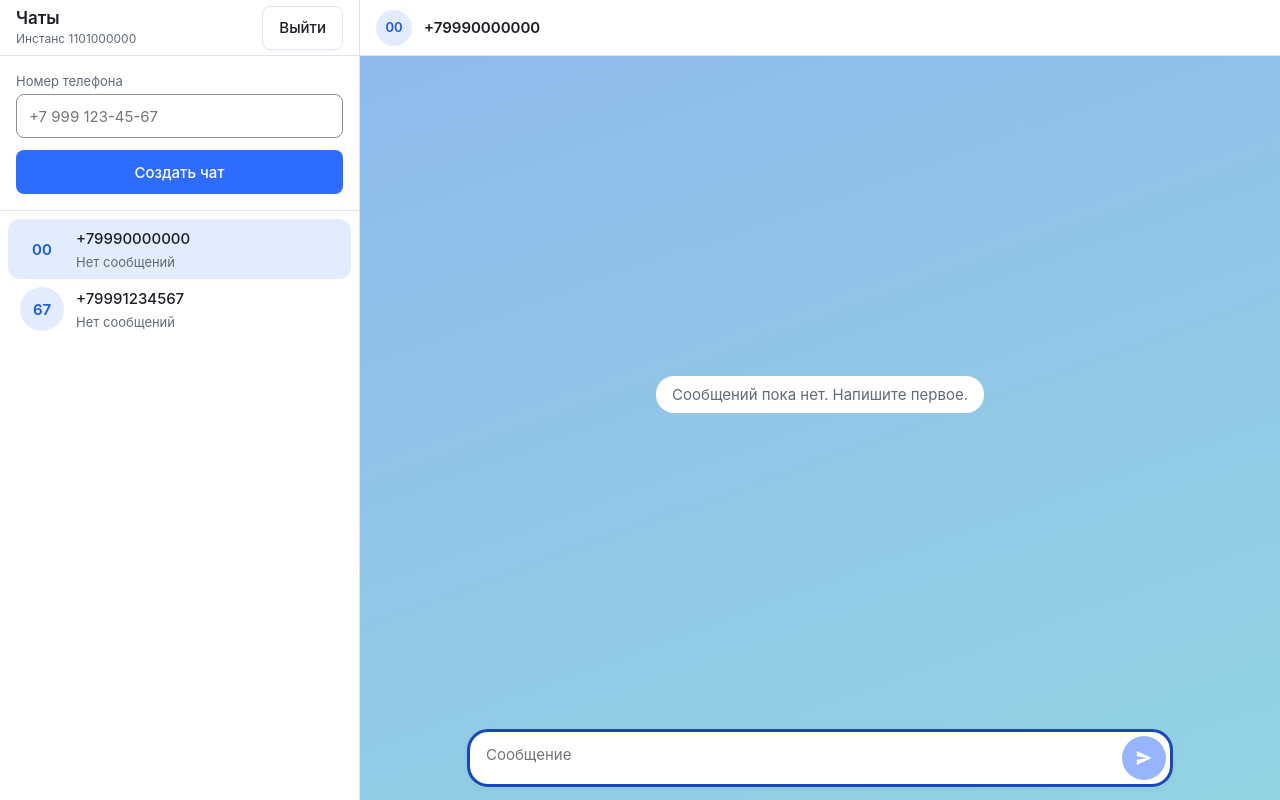
Scenario: ChatPage: новый чат › номер из списка → кнопка «Перейти в чат», чат открывается без CheckAccount
Type "8 (999) 123-45-6" into the field labelled "Номер телефона". click: coordinates (180, 116)
box: [16, 94, 343, 138]
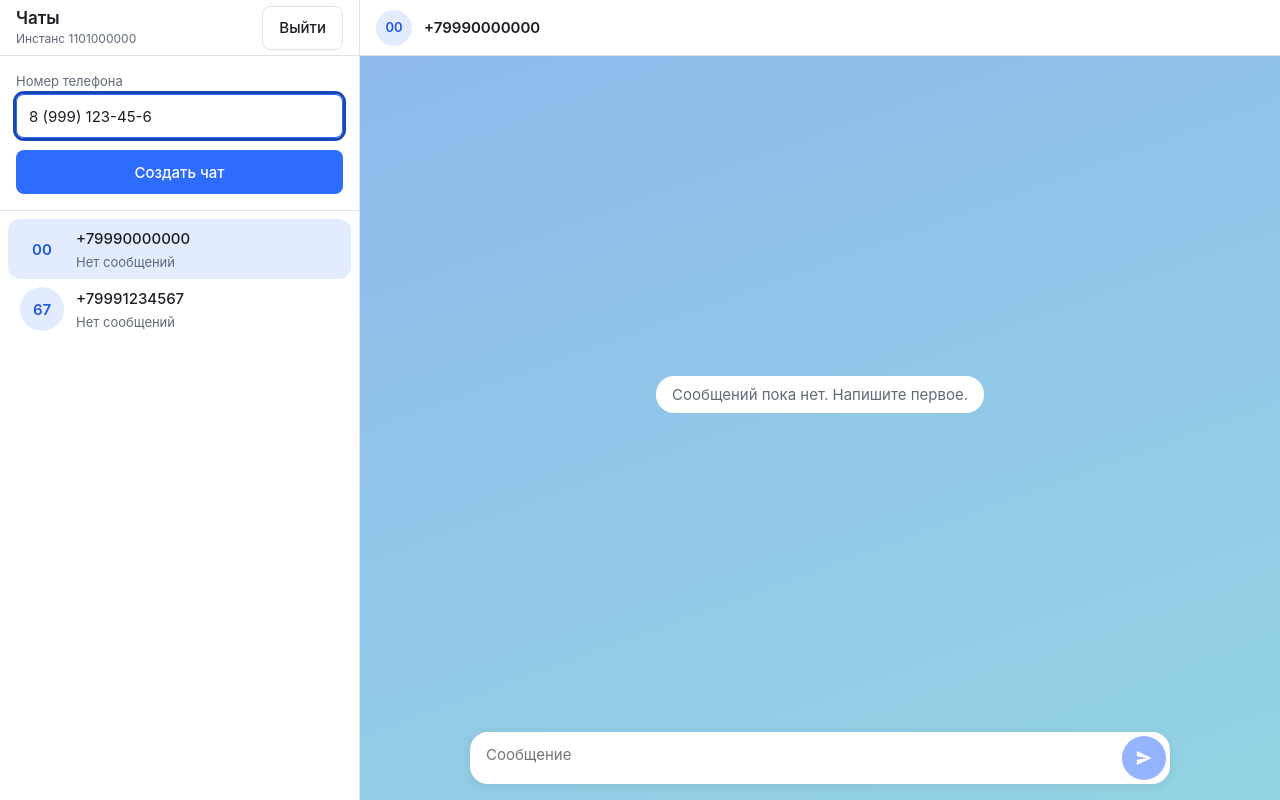
Expected: the button "Создать чат" is shown, [16, 150, 343, 194]
Type "7" into the field labelled "Номер телефона". click: coordinates (180, 116)
box: [16, 94, 343, 138]
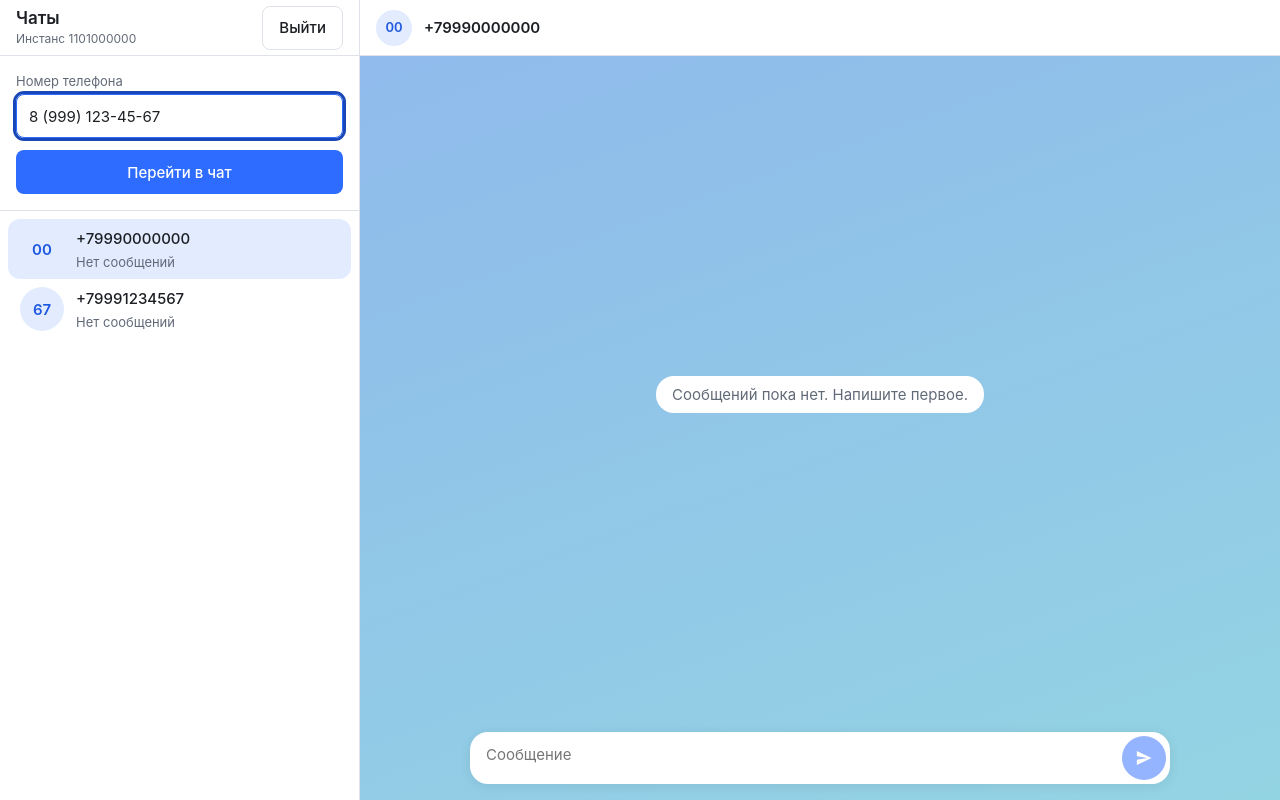
Click the button "Перейти в чат". click: coordinates (180, 172)
box: [16, 150, 343, 194]
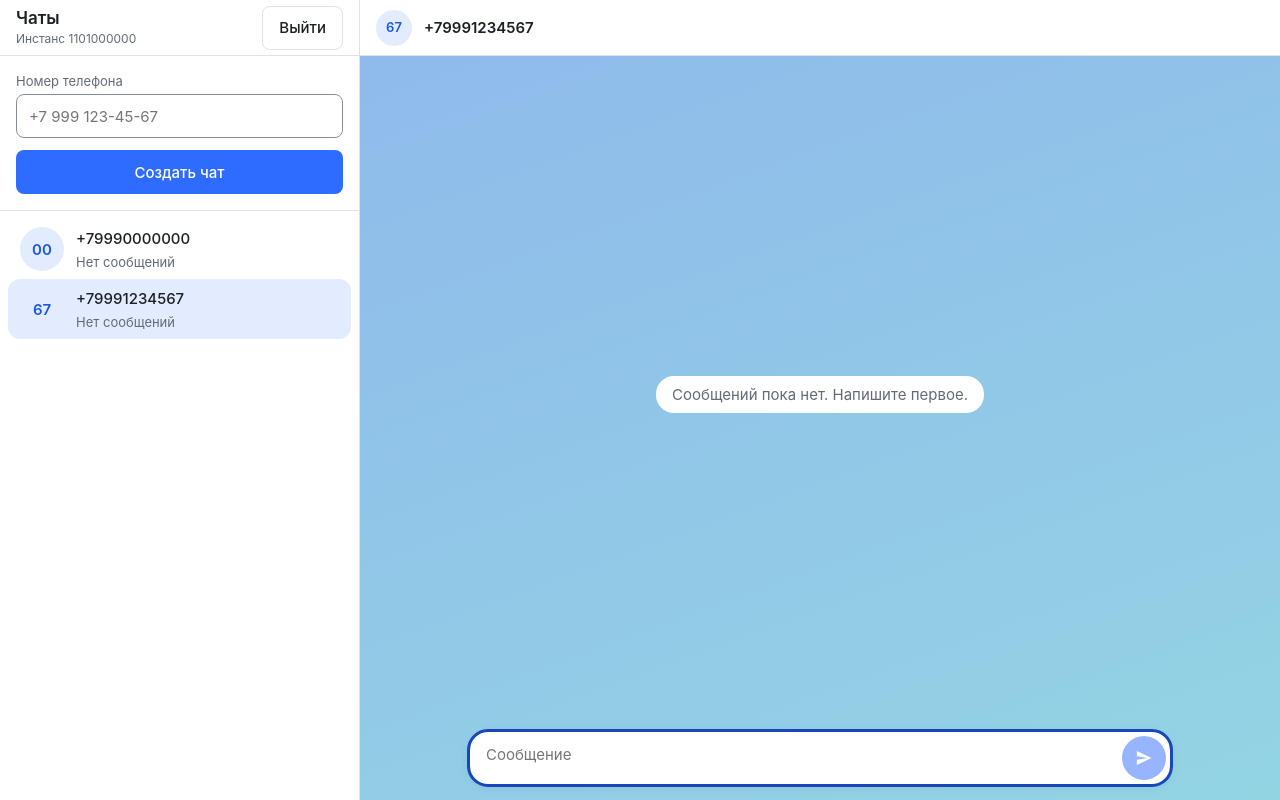
Result: the heading "+79991234567" is shown at [424, 17, 534, 38]
Result: the button "Создать чат" is shown at [16, 150, 343, 194]
